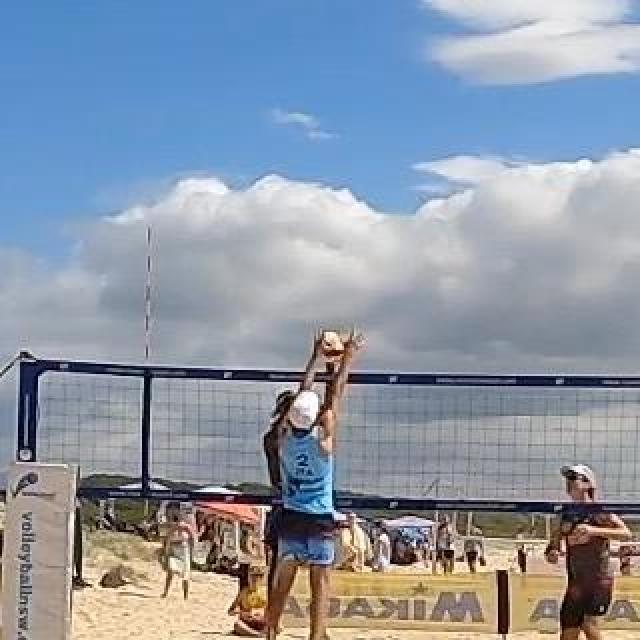volleyball: (316, 332, 346, 364)
